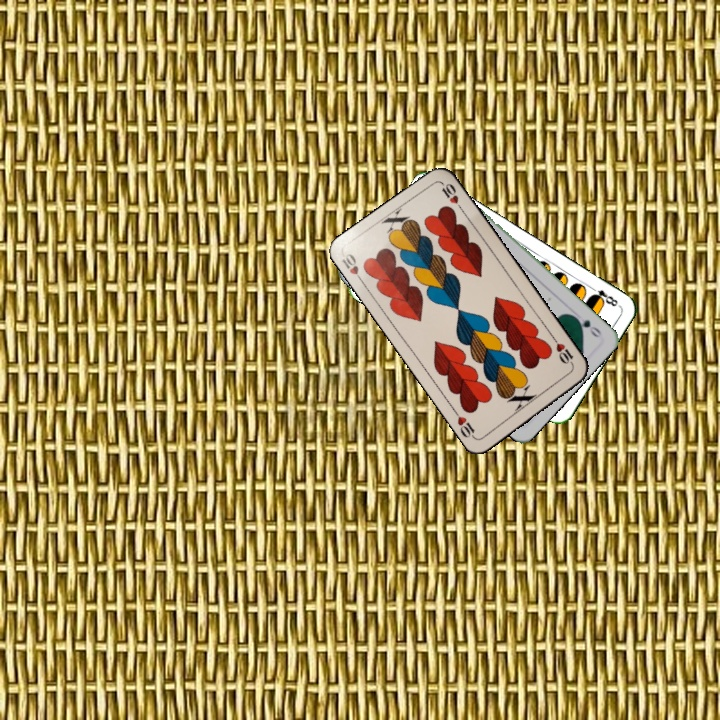E8: (586, 282, 621, 309)
GO: (569, 311, 604, 340)
H10: (338, 249, 367, 287), (549, 333, 577, 369)
